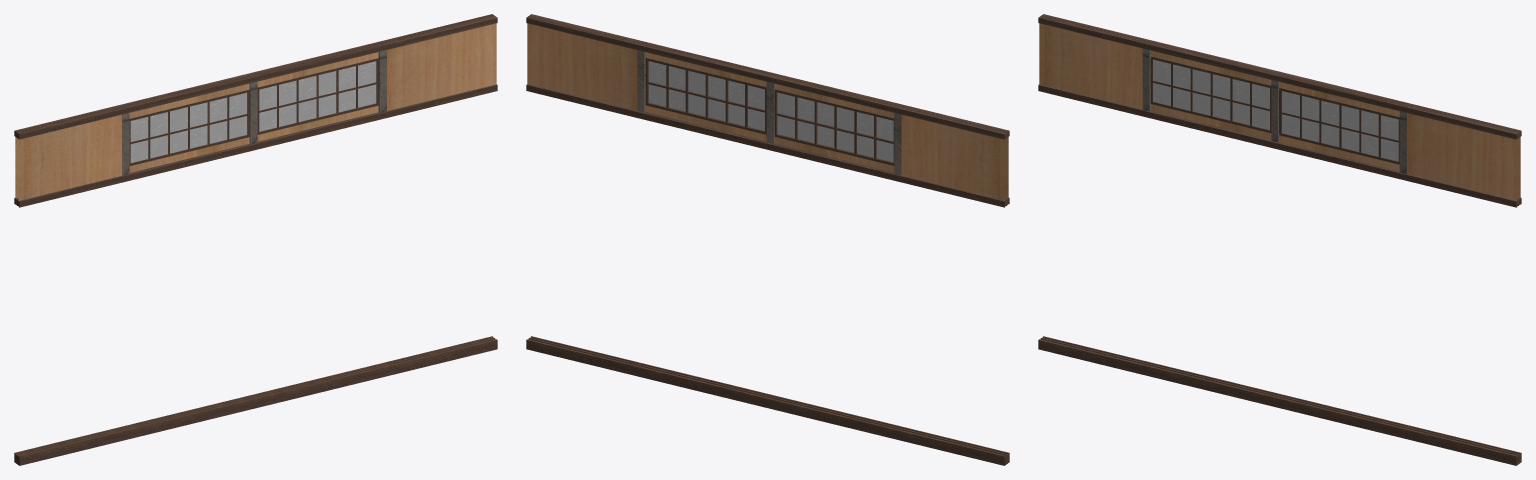
Rendered from jov_inwall_ranma_2t02.fbx.
3 views of the same model, side by side, from view 1: azimuth 30°, elevation 25°; view 2: azimuth 150°, elevation 25°; view 3: azimuth 330°, elevation 25° (orthographic).
Parts seen in each view (by area): view 1: jov_inwall_ranma_2t02; view 2: jov_inwall_ranma_2t02; view 3: jov_inwall_ranma_2t02.
Part boxes in pixels (x1=…): jov_inwall_ranma_2t02: x1=14, y1=14, x2=497, y2=465; jov_inwall_ranma_2t02: x1=526, y1=14, x2=1009, y2=465; jov_inwall_ranma_2t02: x1=1038, y1=14, x2=1521, y2=465.
Size of the model in its own units: 440 by 292 by 8.22.
